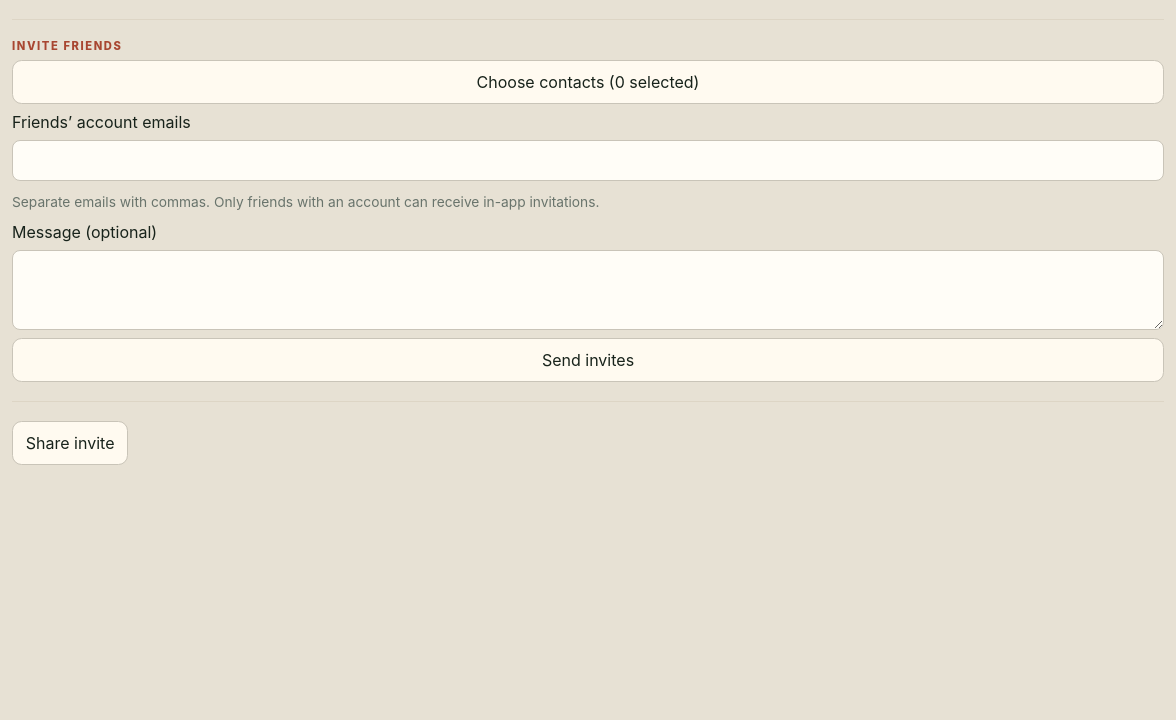
invitation controls › sends account emails and a message with credentials and no caching
Type "one@example.com, two@example.com" into the field labelled "Friends’ account emails" at {"x": 588, "y": 161}, box [12,140,1164,181]
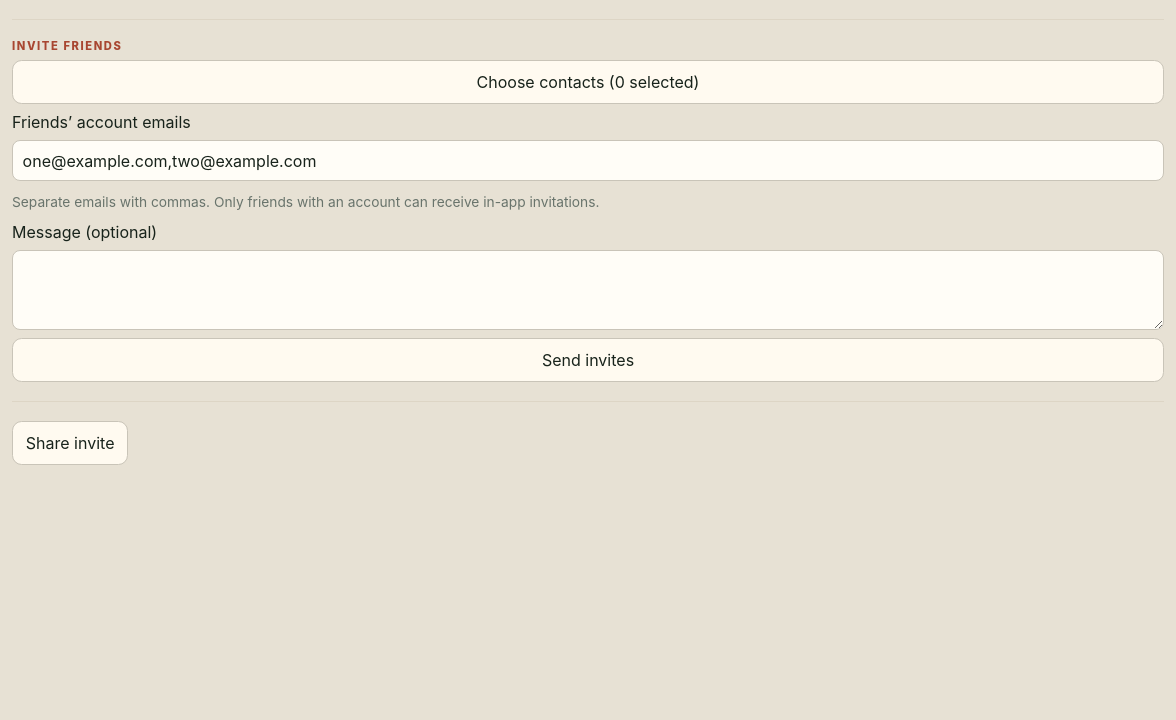
Type "Join us!" into the text box labelled "Message (optional)" at {"x": 588, "y": 290}, box [12,250,1164,330]
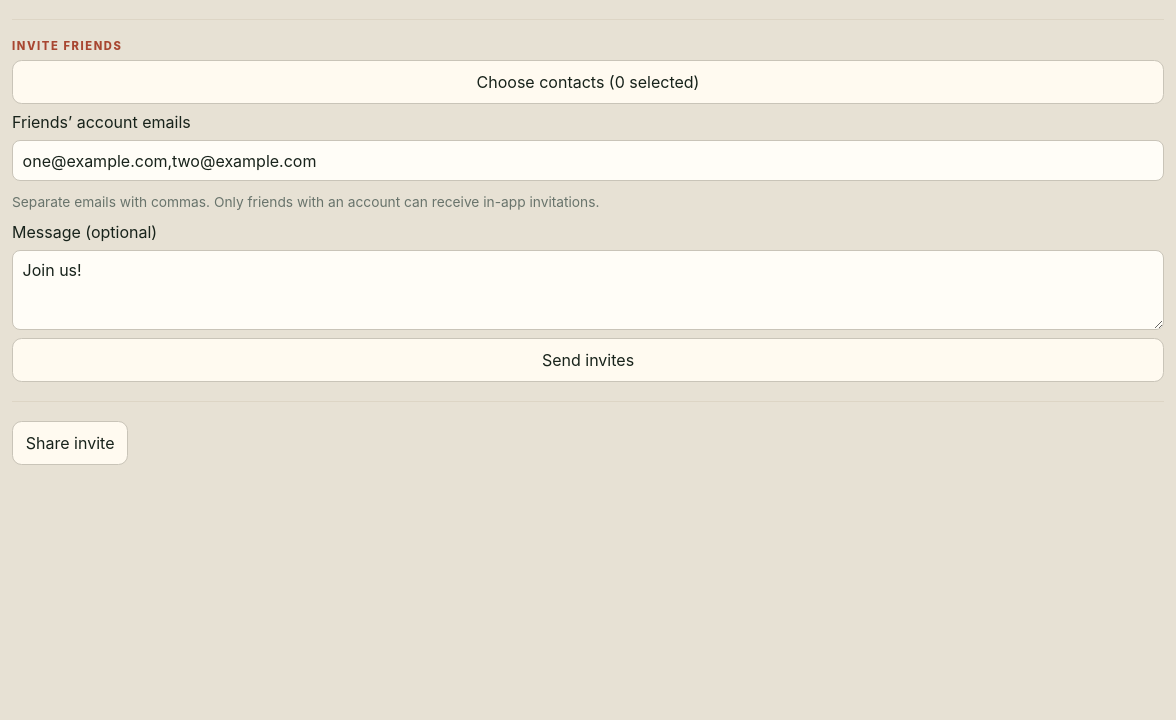
Click the button "Send invites" at {"x": 588, "y": 360}, box [12,338,1164,382]
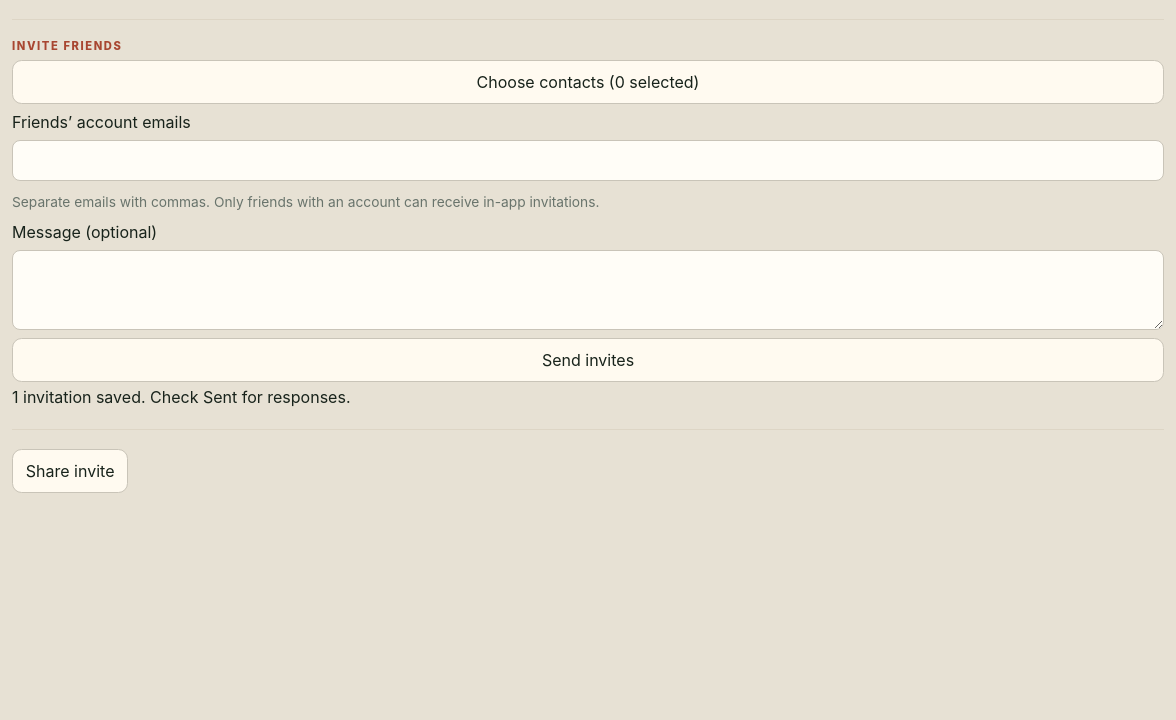
Check: the text "1 invitation saved. Check Sent for responses." is shown, box [12,387,350,407]
Check: the field labelled "Friends’ account emails" is empty, box [12,140,1164,181]
